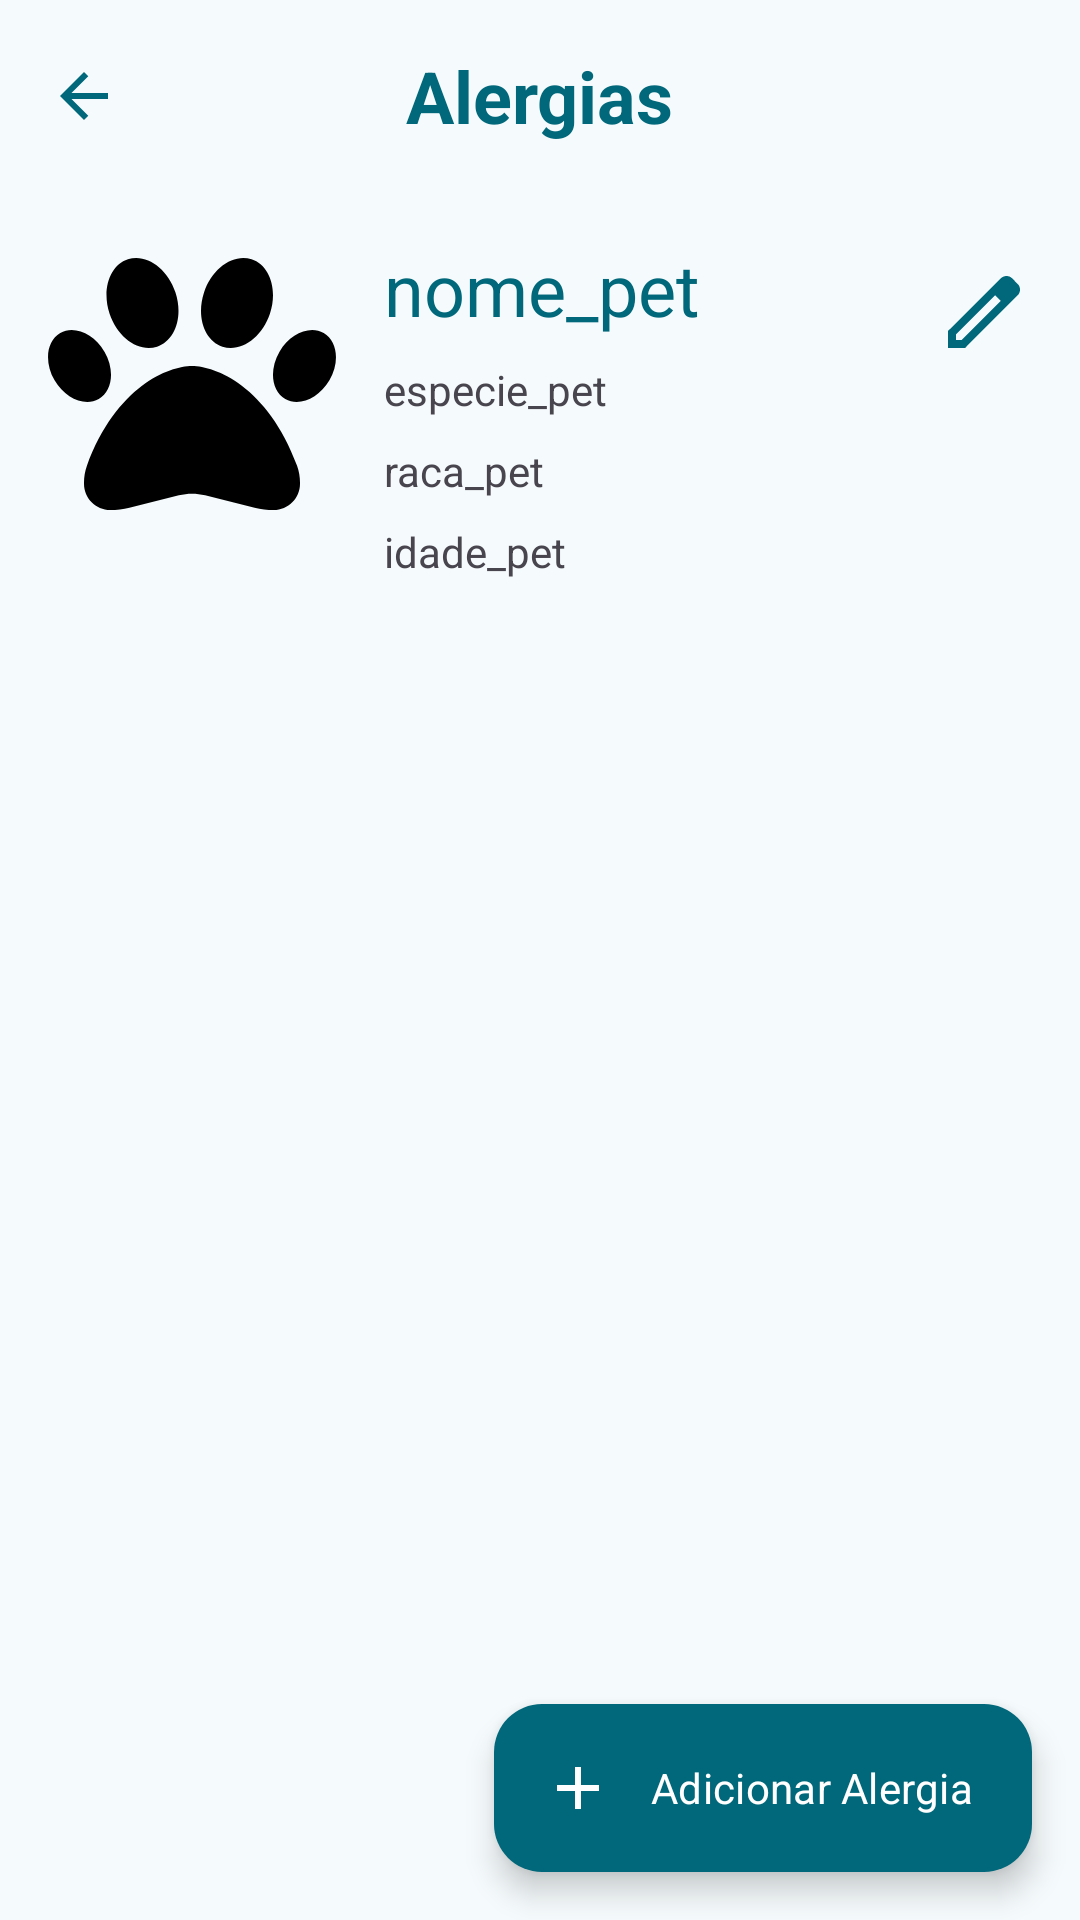

Icon bounding boxes for this 1080×1920 phone screenshot, format (x1, y1, x2, y2):
arrow back: (60, 72, 108, 120)
edit: (948, 276, 1020, 348)
paw: (48, 258, 336, 510)
